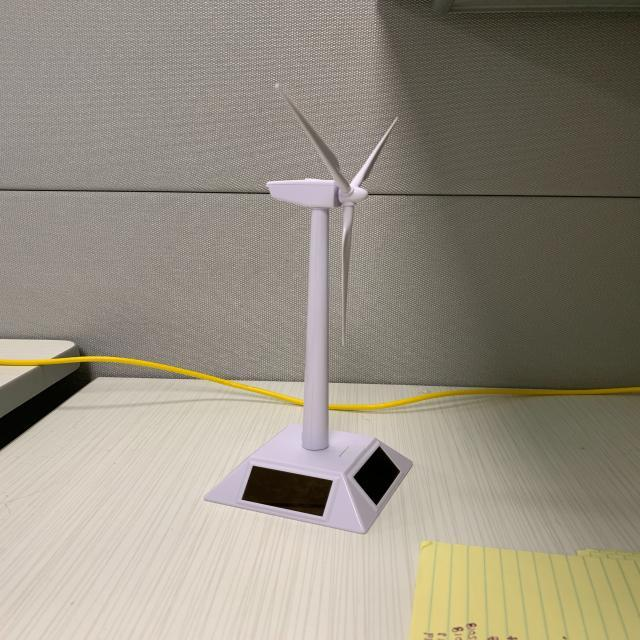solid-blade: (276, 84, 351, 192), (351, 116, 397, 188), (341, 204, 353, 346)
